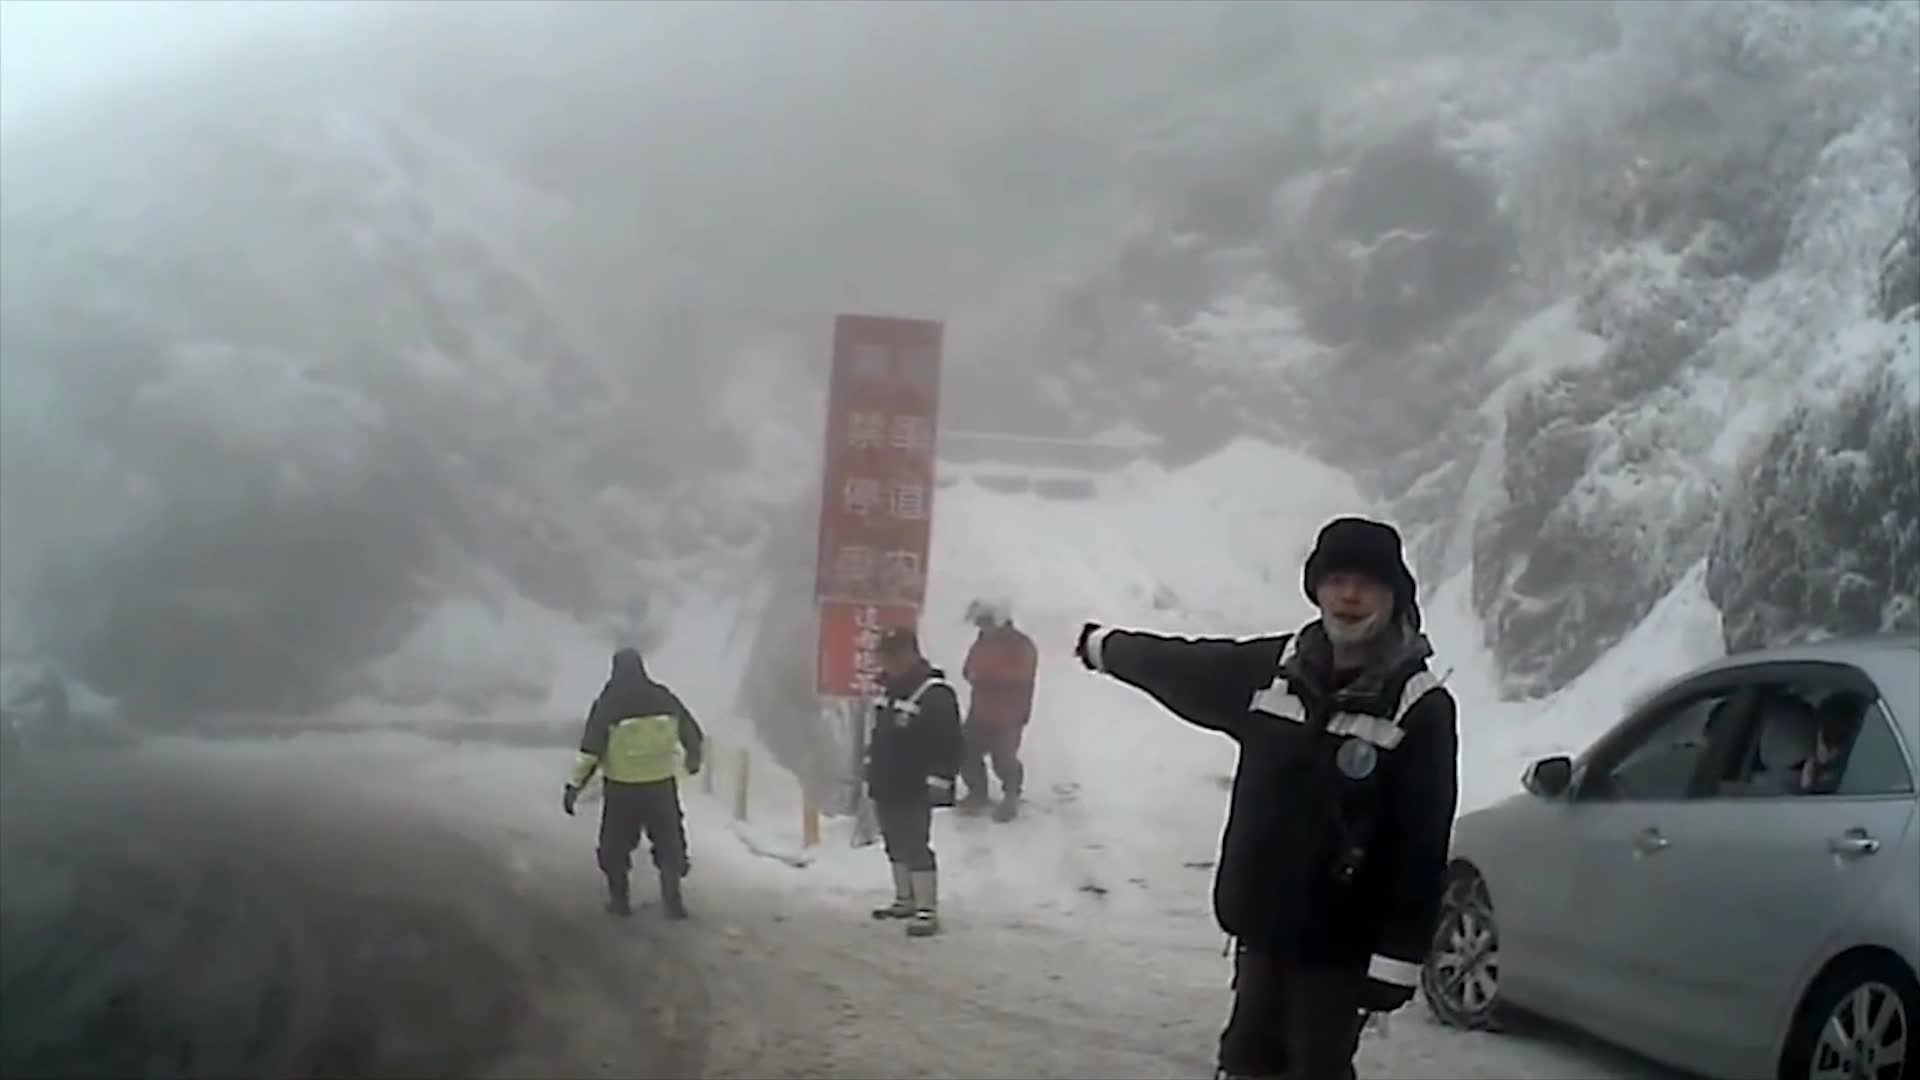pedestrian: (1072, 502, 1458, 1079), (569, 639, 710, 914), (862, 622, 967, 940), (959, 592, 1047, 819)
vehicle: (1408, 633, 1919, 1080)
